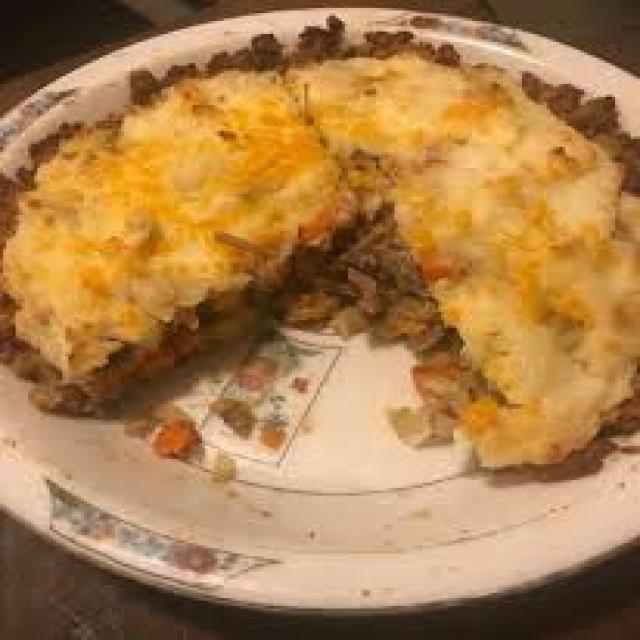organic waste: (276, 13, 637, 480), (0, 34, 354, 415), (149, 414, 196, 459), (205, 396, 258, 433), (252, 420, 282, 451), (205, 453, 233, 482)
